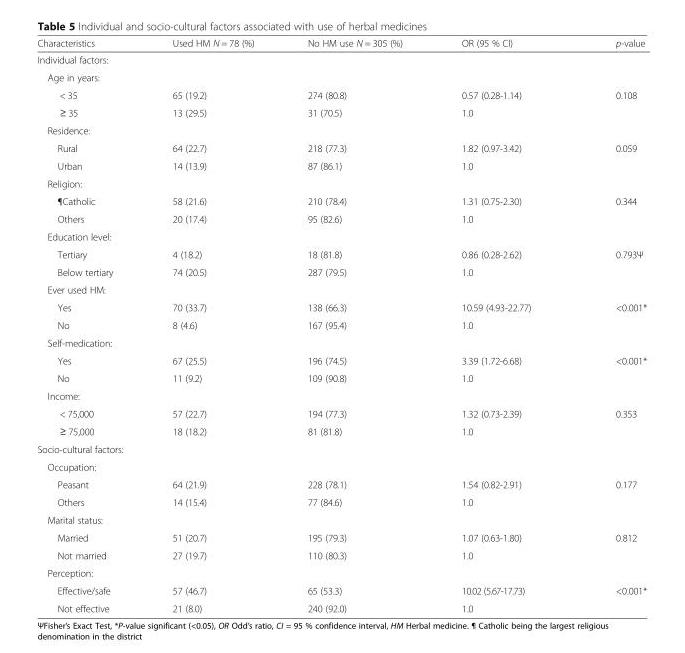table: (36, 37, 646, 613)
table column: (280, 37, 431, 613), (431, 37, 572, 613), (142, 37, 280, 613), (36, 37, 142, 613), (572, 37, 646, 613)
table column header: (36, 37, 646, 51)
table projected row header: (36, 121, 646, 139), (36, 174, 646, 192), (36, 280, 646, 298), (36, 333, 646, 351), (36, 386, 646, 404), (36, 439, 646, 457), (36, 457, 646, 475), (36, 510, 646, 528), (36, 563, 646, 581), (36, 51, 646, 68), (36, 68, 646, 85), (36, 227, 646, 244)
table row: (36, 85, 646, 103), (36, 103, 646, 121), (36, 121, 646, 139), (36, 156, 646, 174), (36, 174, 646, 192), (36, 209, 646, 227), (36, 244, 646, 262), (36, 262, 646, 280), (36, 280, 646, 298), (36, 298, 646, 316), (36, 333, 646, 351), (36, 351, 646, 369), (36, 386, 646, 404), (36, 404, 646, 422), (36, 439, 646, 457), (36, 457, 646, 475), (36, 475, 646, 493), (36, 510, 646, 528), (36, 528, 646, 546), (36, 563, 646, 581), (36, 581, 646, 599), (36, 51, 646, 68), (36, 68, 646, 85), (36, 139, 646, 156), (36, 192, 646, 209), (36, 227, 646, 244), (36, 316, 646, 333), (36, 369, 646, 386), (36, 422, 646, 439), (36, 493, 646, 510), (36, 546, 646, 563), (36, 37, 646, 51), (36, 599, 646, 613)
